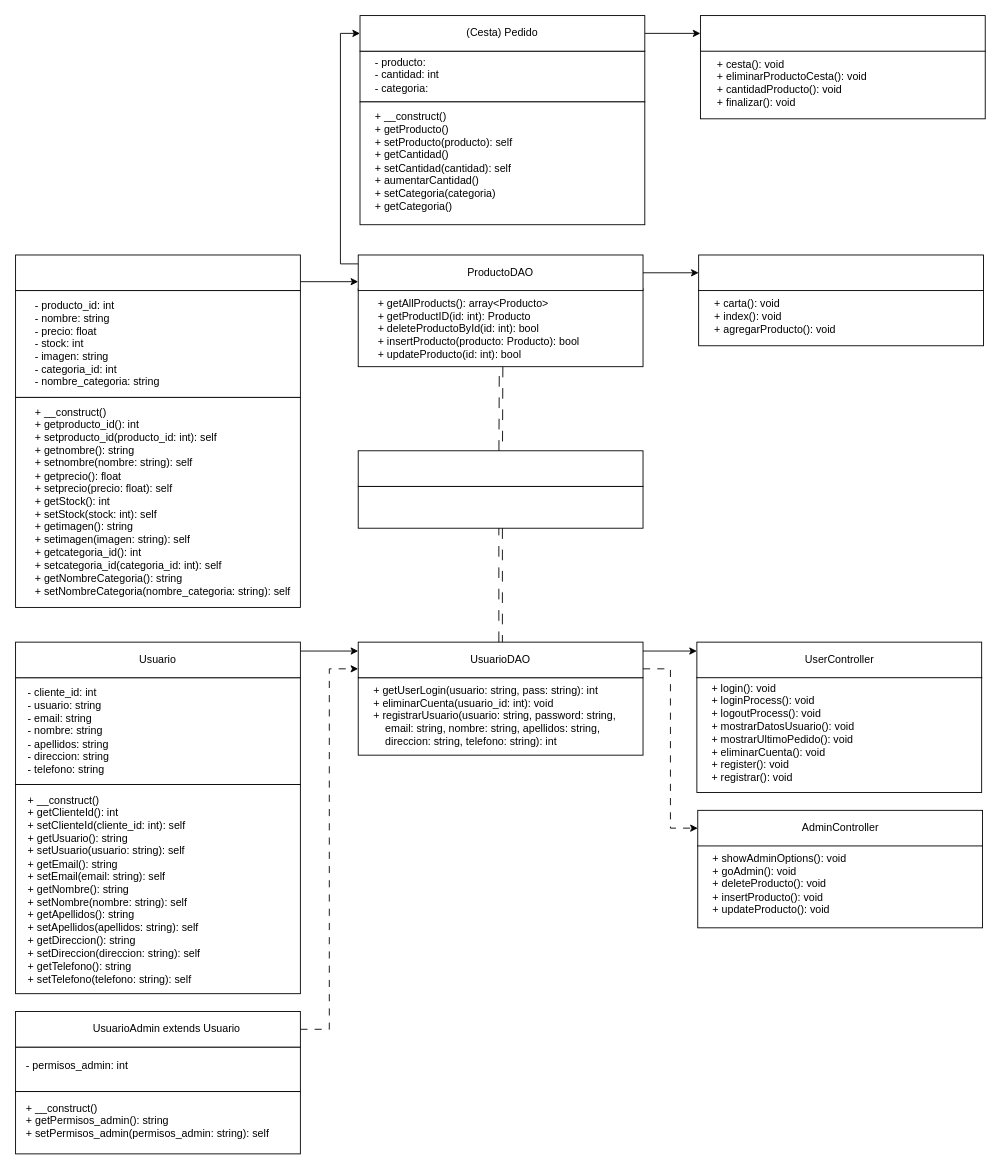
Image size: 1001x1169. Some labels were removed from this diagram. The shapes that lost their labels are listed below. From the top down, each one's box as (x1, y1, x2, y2) in pixels, then its label:
(700, 15, 985, 51): CestaController
(15, 254, 300, 291): Producto
(698, 254, 983, 291): ProductoController
(357, 450, 643, 486): Database
(357, 485, 643, 528): + connect(): Connection
